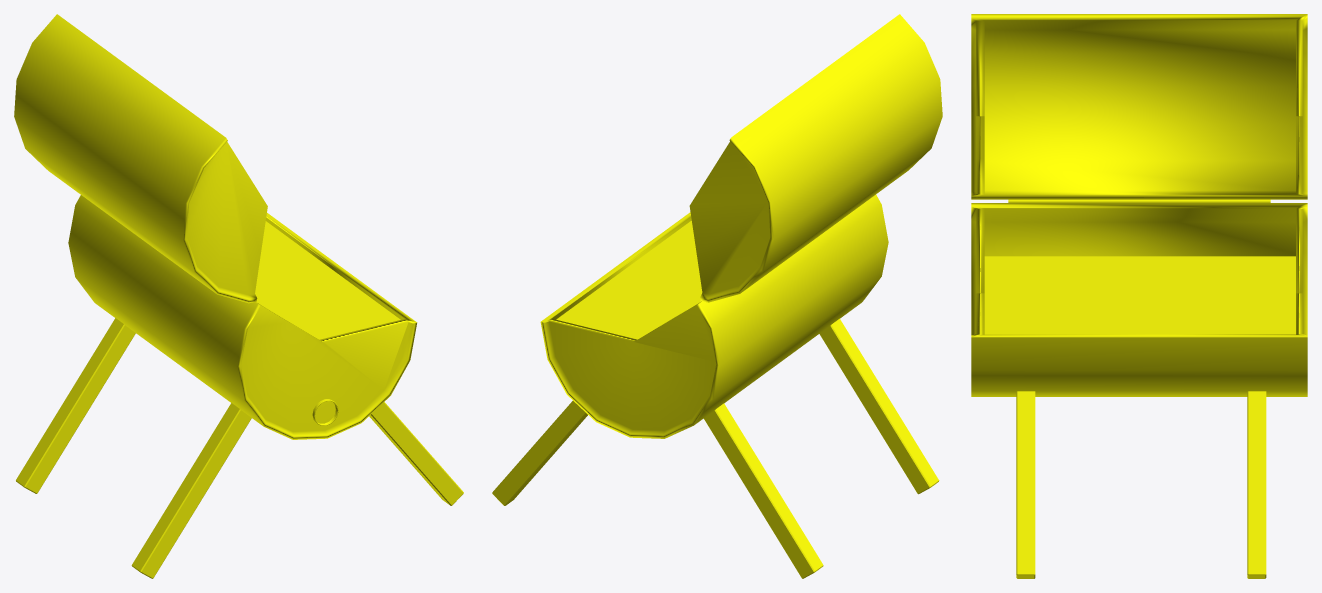
The picture shows the model from 3 angles, left to right: view 1: azimuth 30°, elevation 25°; view 2: azimuth 150°, elevation 25°; view 3: azimuth 270°, elevation 25°; orthographic projection.
Visible parts, largest first — view 1: g polySurface3; view 2: g polySurface3; view 3: g polySurface3.
Part boxes in pixels (bbox=[...]): g polySurface3: bbox=[14, 14, 463, 578]; g polySurface3: bbox=[492, 14, 942, 578]; g polySurface3: bbox=[971, 14, 1307, 578].
Size of the model in its own units: 1.52 by 2 by 1.37.
